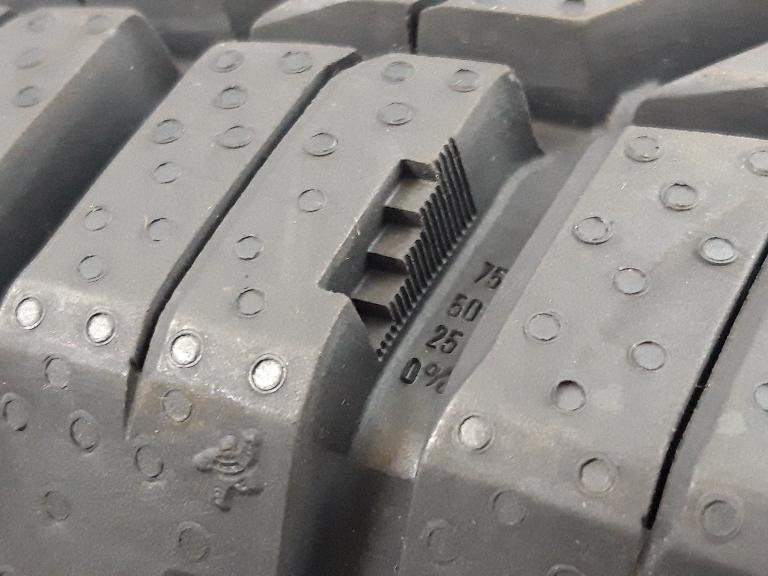temoin:100: (308, 127, 490, 372)
